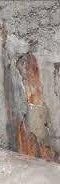Corrosion: (17, 119, 60, 163), (14, 50, 45, 107)
Spalling: (1, 1, 60, 46)
